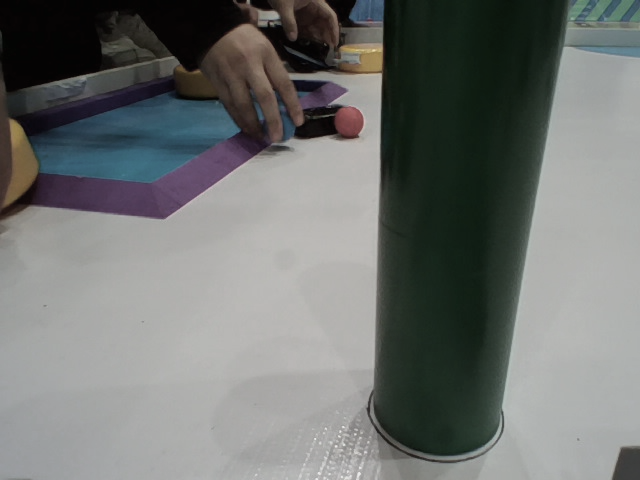black: (291, 103, 356, 134)
blue: (258, 114, 299, 143)
kuang: (3, 78, 347, 232)
red: (336, 106, 367, 140)
yellow: (1, 120, 44, 223), (170, 54, 250, 103), (333, 36, 394, 74)
zhuzi: (362, 3, 581, 451)
